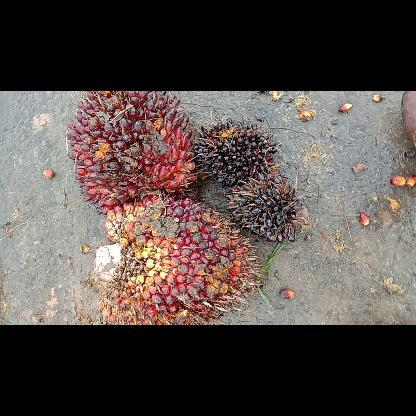TBS abnormal: (223, 170, 314, 246), (192, 116, 284, 186)
TBS masak: (90, 190, 266, 324), (64, 92, 200, 214)
